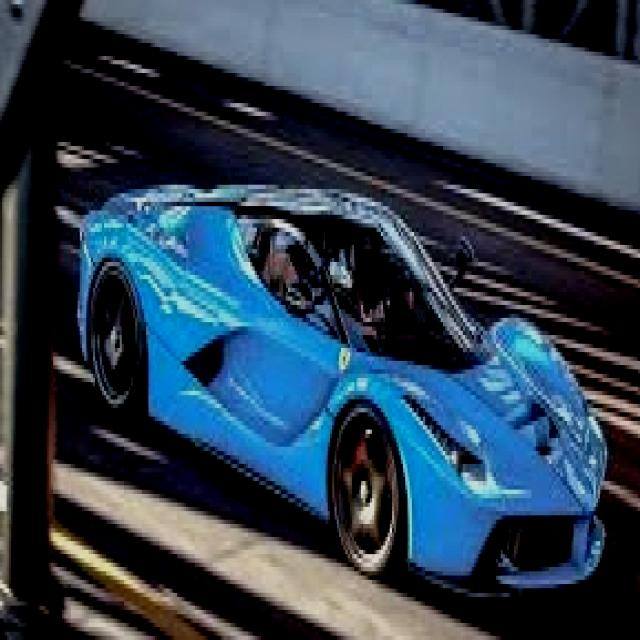blue: (74, 160, 616, 609)
